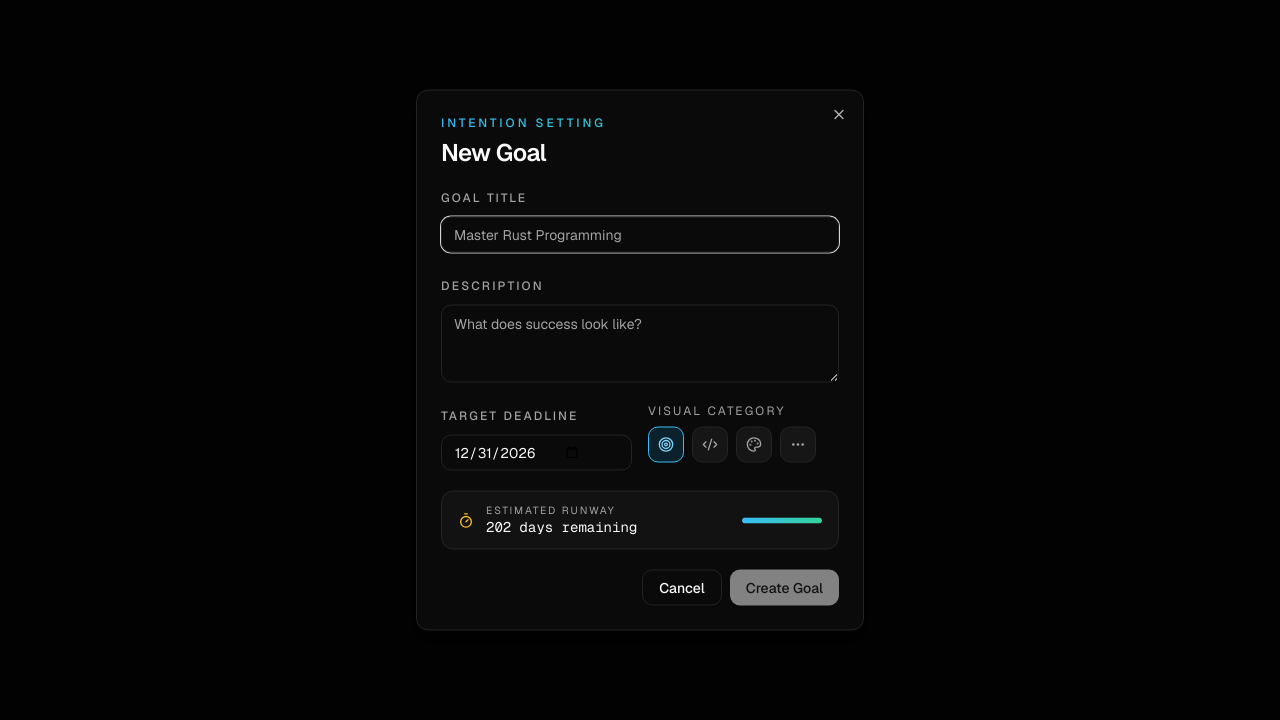
GoalFormDialog › disables submit until a title is entered
This screenshot has width=1280, height=720.
Expected: the button "Create Goal" is disabled, x1=730 y1=570 x2=839 y2=606
Type "Write a book" into the field labelled "Goal Title" at (640, 234), box x1=441 y1=216 x2=839 y2=252
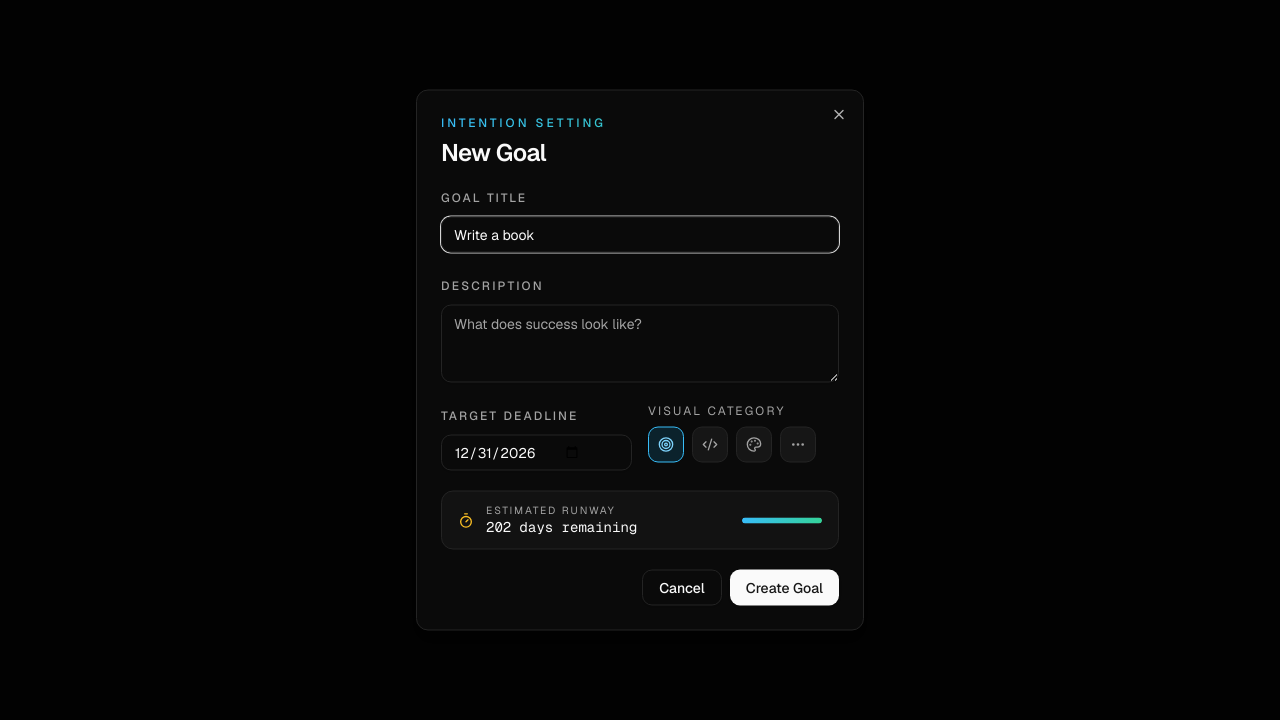
Expected: the button "Create Goal" is enabled, x1=730 y1=570 x2=839 y2=606
